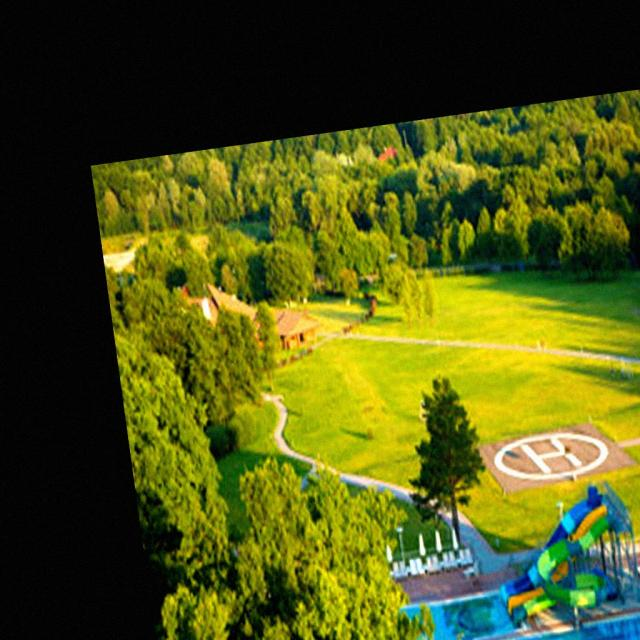helipad: (492, 430, 610, 480)
